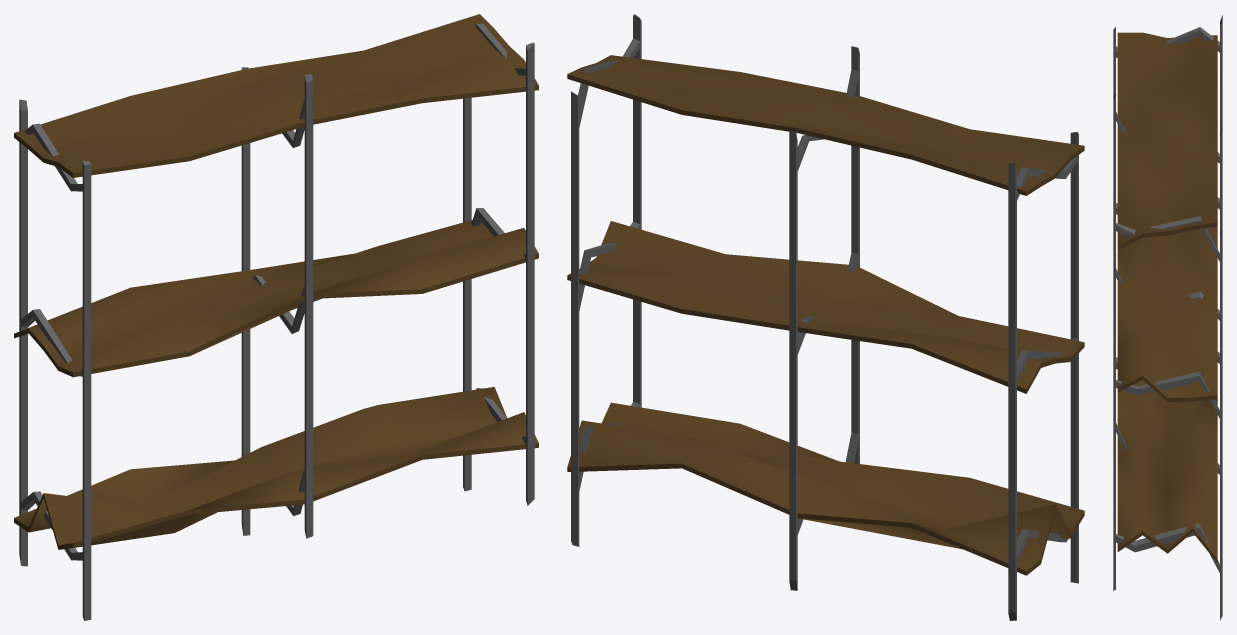
Rendered from Cursed_Estanteria (1).fbx.
3 renders of one model, left to right at view 1: azimuth 30°, elevation 25°; view 2: azimuth 150°, elevation 25°; view 3: azimuth 270°, elevation 25°, orthographic. The views are drawn at different scales.
Parts seen in each view (by area): view 1: BottomShelf002, BottomShelf004, BottomShelf003, Object191, Object193, Object194; view 2: BottomShelf004, BottomShelf003, BottomShelf002, Object191, Object194, Object193; view 3: BottomShelf002, BottomShelf003, BottomShelf004, Object194, Object191, Object193.
Boxes of the visible parts, x1,y1,x2,y2 form: BottomShelf002: (14, 14, 538, 177); BottomShelf004: (14, 387, 538, 549); BottomShelf003: (14, 220, 538, 377); Object191: (19, 99, 91, 620); Object193: (241, 67, 313, 538); Object194: (463, 23, 534, 505); BottomShelf004: (567, 402, 1084, 575); BottomShelf003: (567, 221, 1084, 393); BottomShelf002: (567, 55, 1084, 195); Object191: (1008, 132, 1078, 620); Object194: (571, 14, 641, 546); Object193: (789, 46, 859, 590); BottomShelf002: (1117, 32, 1217, 249); BottomShelf003: (1117, 226, 1217, 401); BottomShelf004: (1117, 380, 1217, 562); Object194: (1113, 203, 1222, 620); Object191: (1113, 15, 1222, 369); Object193: (1113, 92, 1222, 474).
Bounding box in the file's own units: 37.35 × 39.49 × 8.99.
